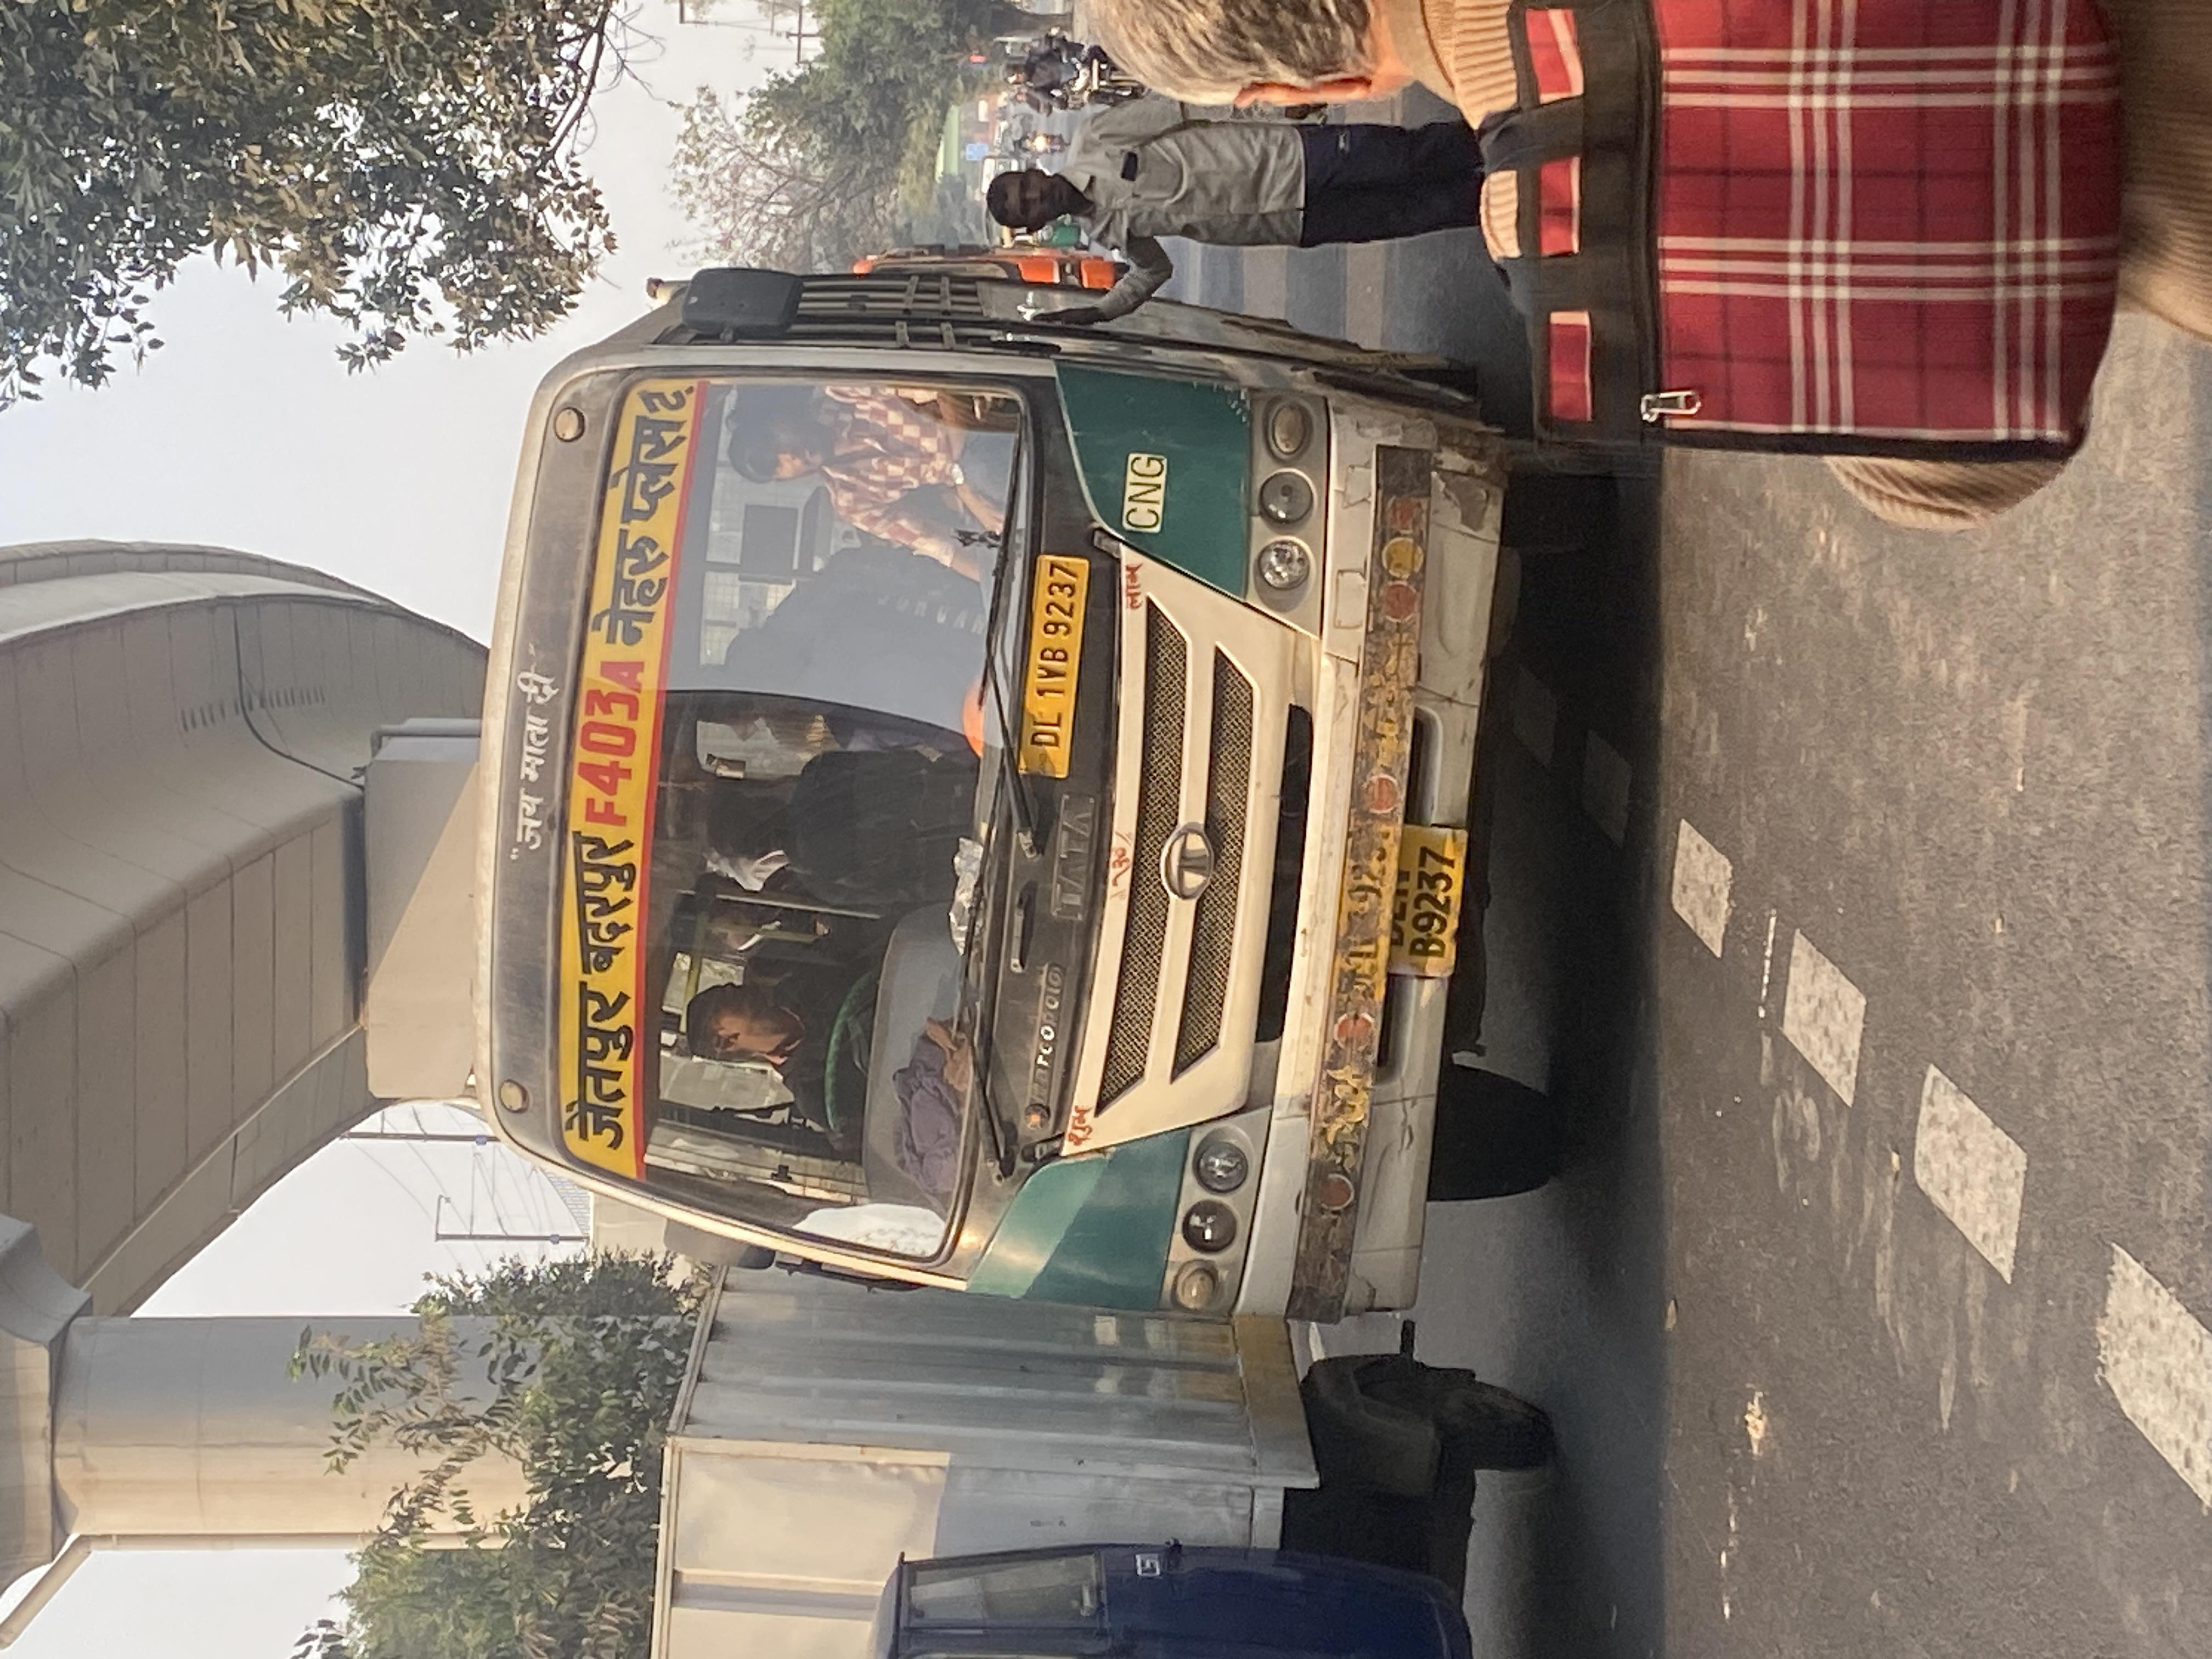Display Board: (466, 357, 741, 1212)
License Plate: (433, 313, 1547, 1366), (1361, 801, 1503, 1020)
